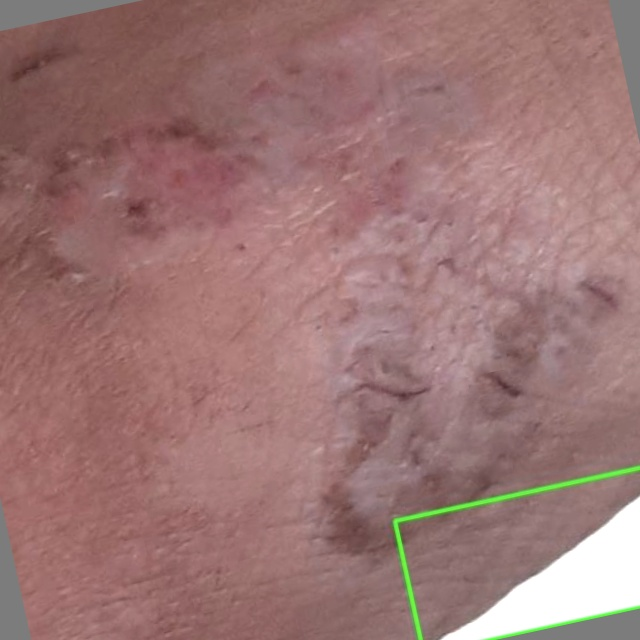Contact Dermatitis: (395, 467, 639, 639)
